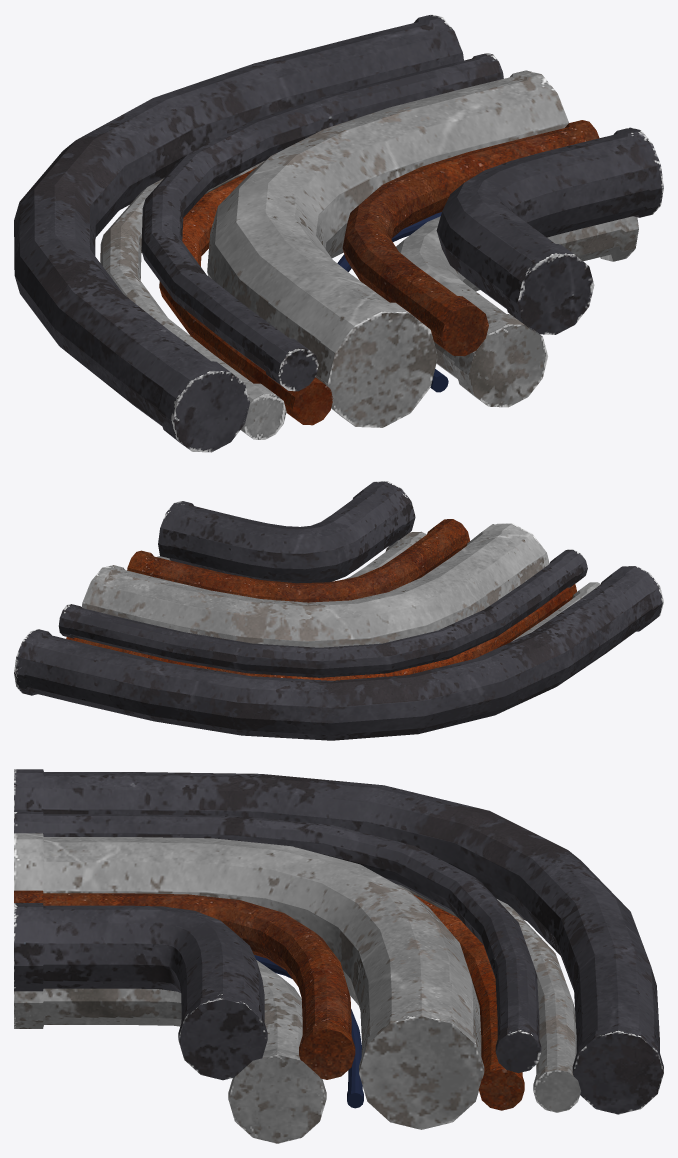
File: Right Turn.fbx
3 views of the same model, one above another, from view 1: azimuth 30°, elevation 25°; view 2: azimuth 150°, elevation 25°; view 3: azimuth 270°, elevation 25° (orthographic). The views are drawn at different scales.
Visible parts, largest first — view 1: Ceiling_Turn_Right; view 2: Ceiling_Turn_Right; view 3: Ceiling_Turn_Right.
Boxes of the visible parts, x1=… form: Ceiling_Turn_Right: x1=14, y1=14, x2=663, y2=452; Ceiling_Turn_Right: x1=14, y1=481, x2=663, y2=740; Ceiling_Turn_Right: x1=14, y1=769, x2=663, y2=1143.
Size of the model in its own units: 3.3 by 0.7974 by 3.25.
